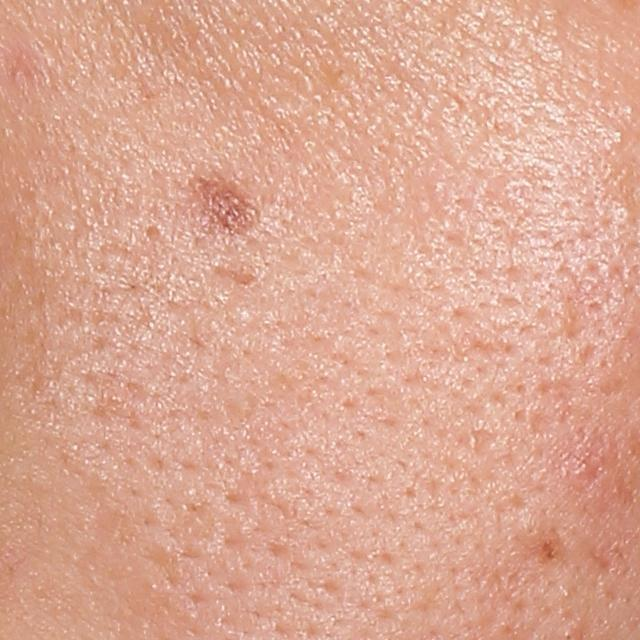comedo: (138, 221, 166, 251)
nevus: (189, 175, 260, 234)
